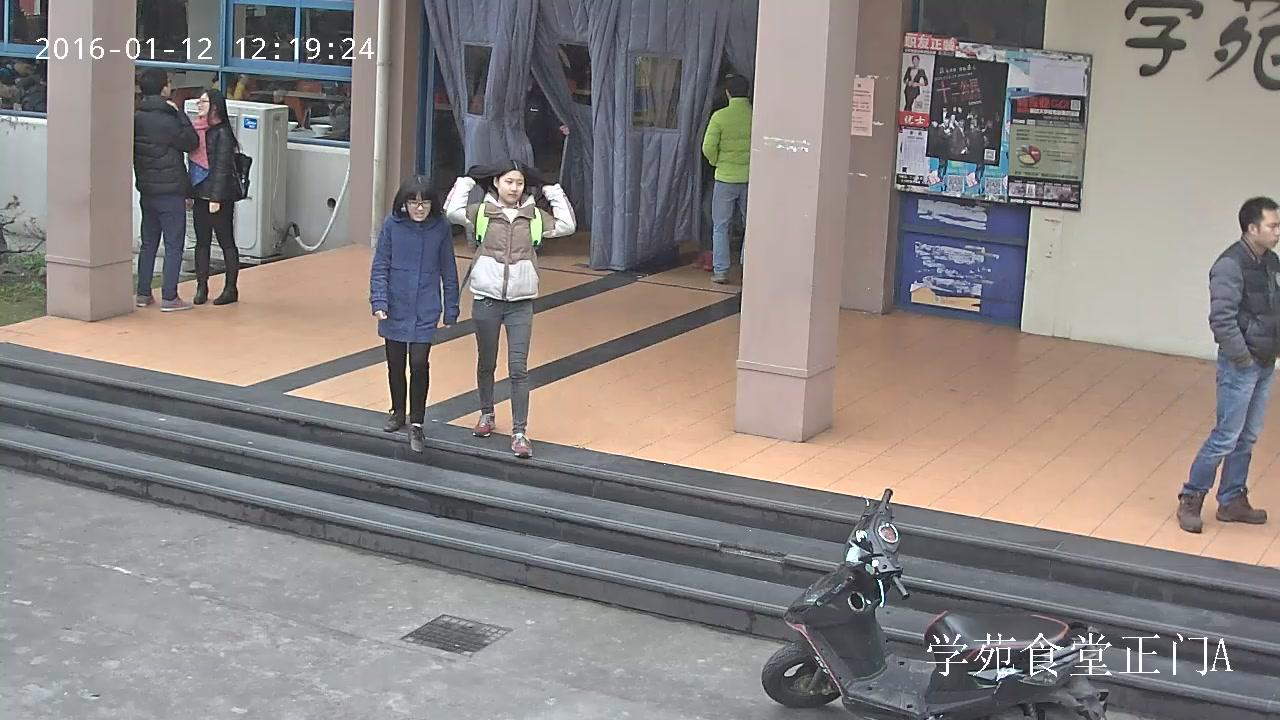person: (443, 157, 576, 458), (1176, 196, 1280, 531), (368, 175, 460, 453), (133, 68, 199, 312), (185, 88, 252, 304), (701, 73, 752, 283), (522, 71, 570, 176), (0, 55, 40, 111), (319, 87, 350, 142), (902, 55, 928, 111)
